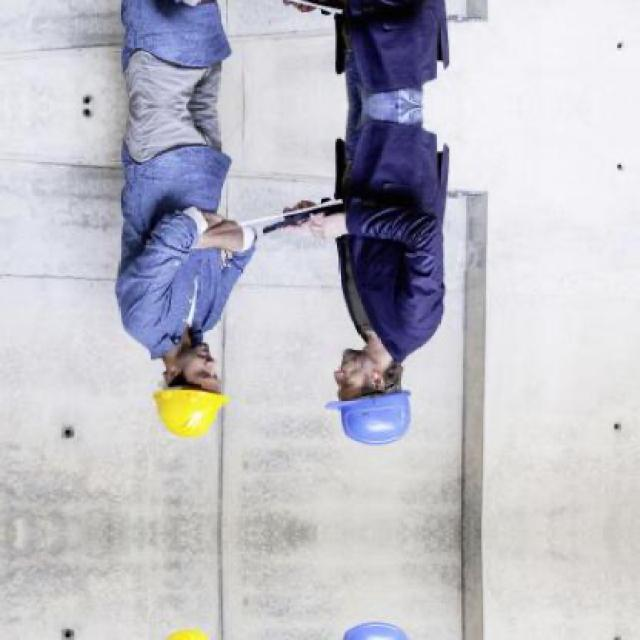con casco: (106, 307, 284, 462), (293, 316, 457, 458)
